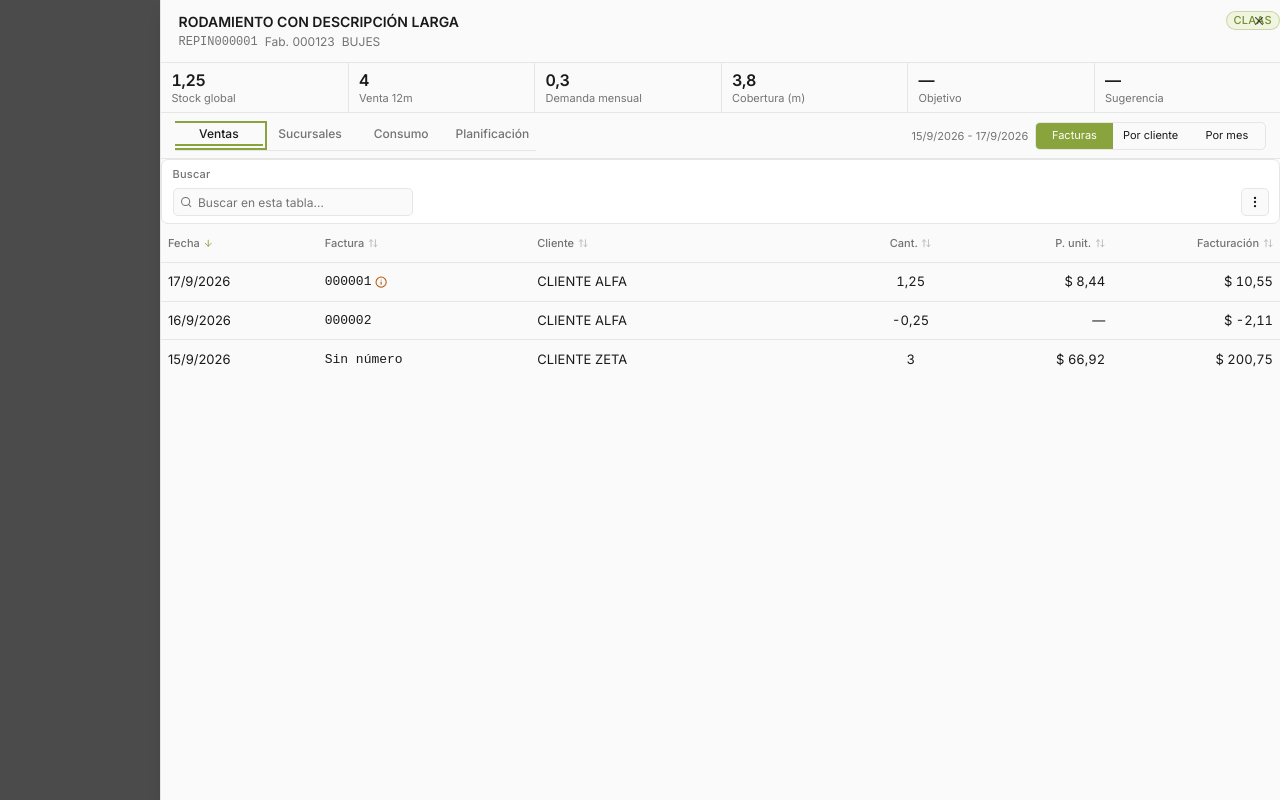
Test: compact part history sheet › keeps grouped totals and distinct document counts with the shared axes
Later steps or results of the test are not shown.
What coordinates should you click on to do the following:
click the button "Por cliente"
I would click on:
 (1151, 136)
Its box is [1112,122,1189,148].
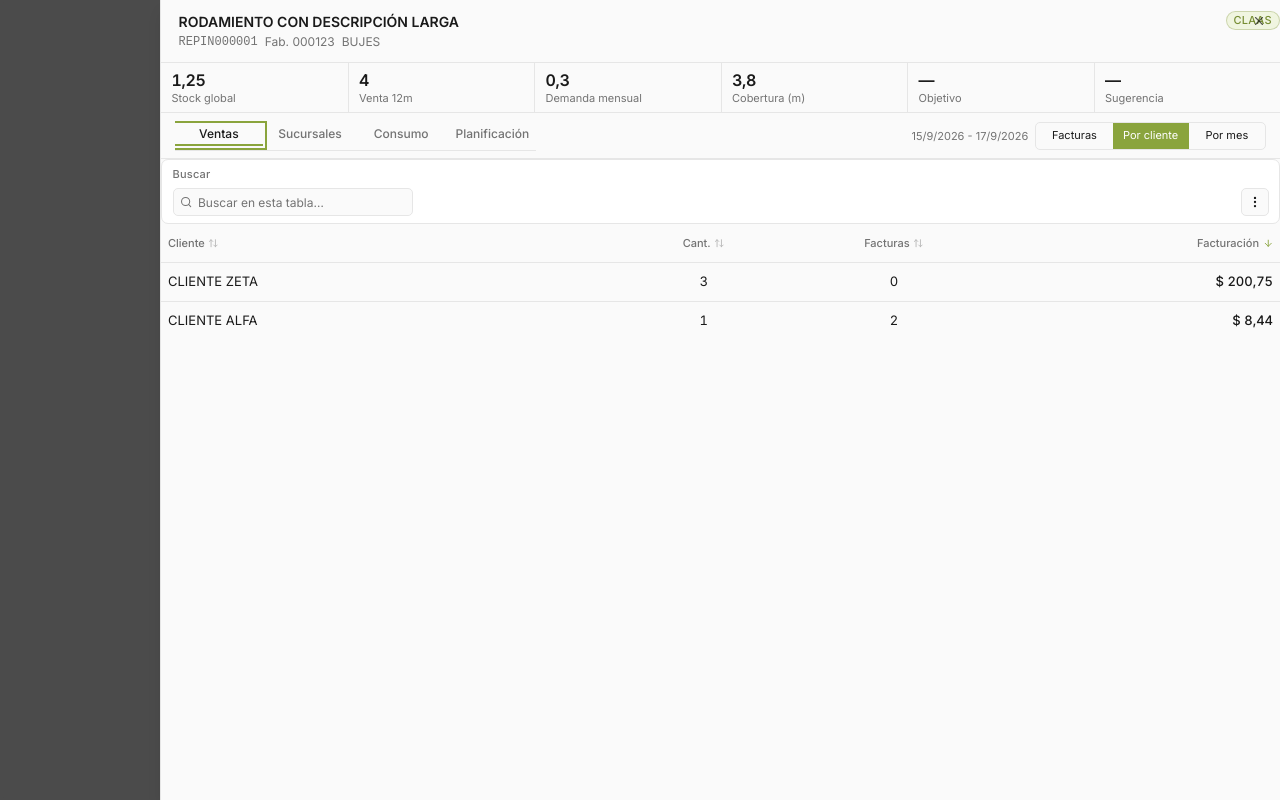
expect the cells read "CLIENTE ALFA", "1", "2", "$ 8,44", in this order: met, box [161,301,609,340]; [609,301,799,340]; [799,301,989,340]; [989,301,1279,340]
